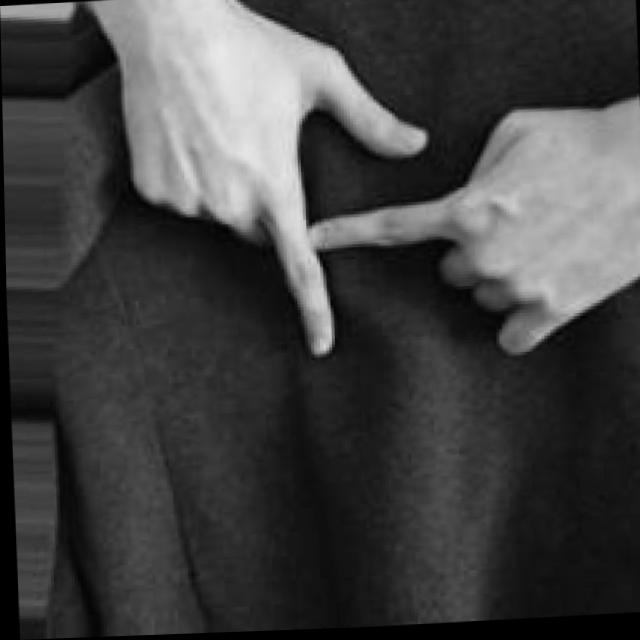F: (115, 0, 640, 382)
